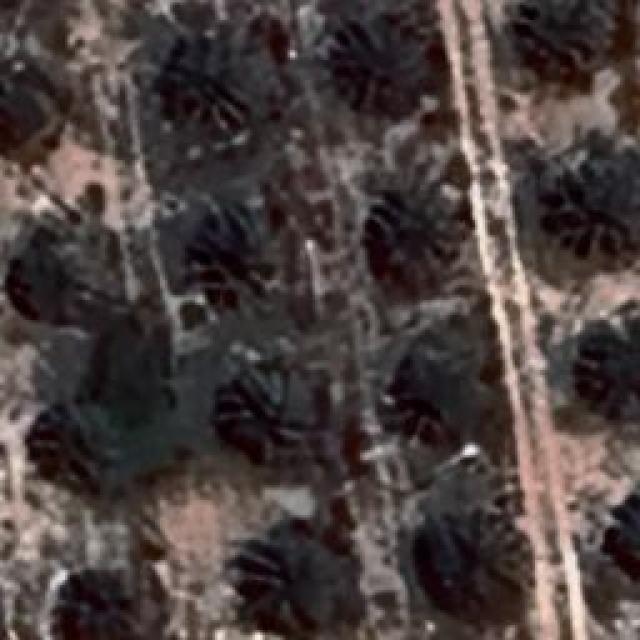PalmTree: (552, 150, 638, 262), (248, 530, 342, 632), (424, 508, 528, 598), (217, 370, 315, 460), (349, 6, 439, 104), (166, 36, 269, 119), (28, 400, 112, 500), (368, 185, 456, 275), (195, 211, 265, 309), (399, 348, 469, 436), (507, 0, 602, 62), (578, 320, 640, 412), (7, 238, 78, 318), (52, 572, 128, 640), (0, 61, 50, 151), (596, 489, 640, 589)
